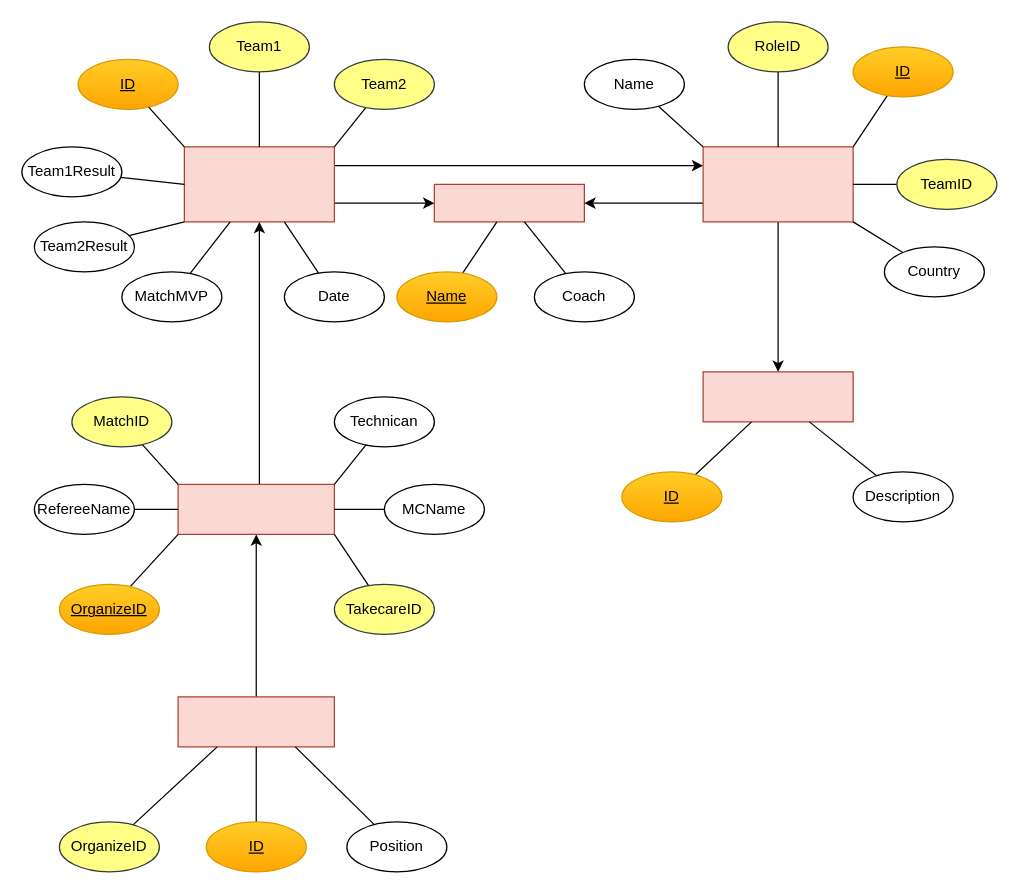
Some shapes in this 1019 by 894 pixel diagram are drawn without their labels. The centre of each missing label's shape, as x and y in pixels:
"Match" goes at (258,184).
"Organize" goes at (255,508).
"Player" goes at (777,184).
"Role" goes at (777,396).
"Take care" goes at (255,721).
"Team" goes at (508,202).
